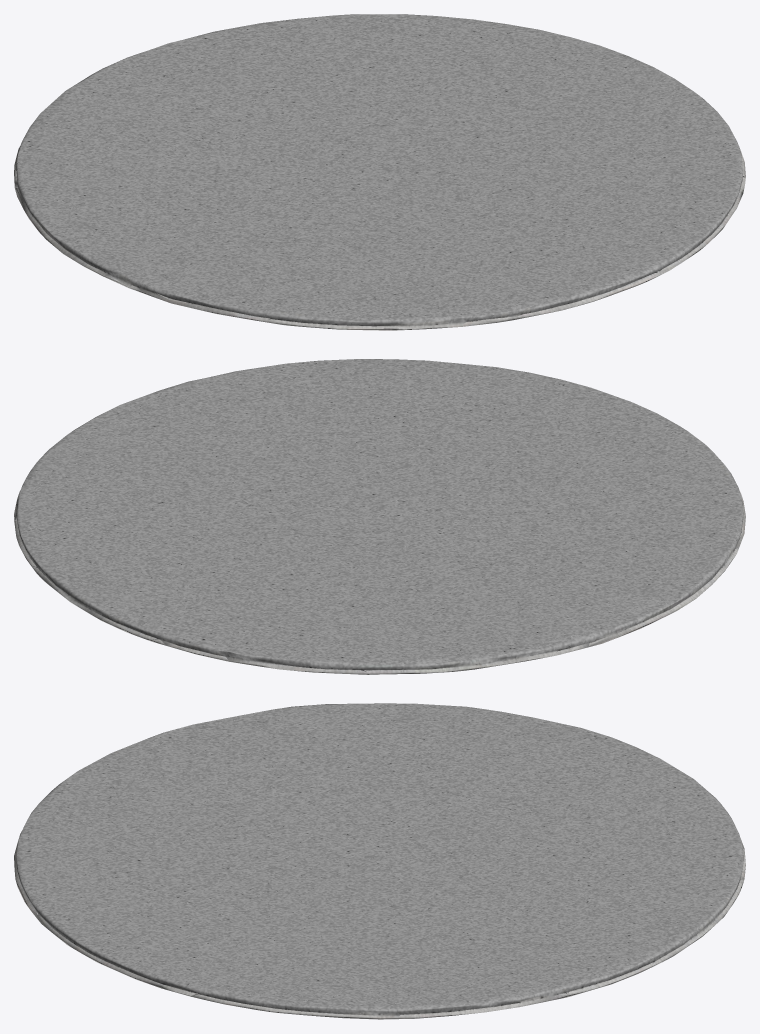
Rendered from stoense_dywan_z_krotkim_wosiem_50426840.glb.
3 views of the same model, one above another, from view 1: azimuth 30°, elevation 25°; view 2: azimuth 150°, elevation 25°; view 3: azimuth 270°, elevation 25° (orthographic).
Visible parts, largest first — view 1: stoense_dywan_z_krotkim_wosiem_50426840; view 2: stoense_dywan_z_krotkim_wosiem_50426840; view 3: stoense_dywan_z_krotkim_wosiem_50426840.
Boxes of the visible parts, x1=… form: stoense_dywan_z_krotkim_wosiem_50426840: x1=14, y1=14, x2=745, y2=330; stoense_dywan_z_krotkim_wosiem_50426840: x1=14, y1=359, x2=745, y2=674; stoense_dywan_z_krotkim_wosiem_50426840: x1=14, y1=703, x2=745, y2=1019.
Size of the model in its own units: 1.3 by 0.0213 by 1.3.
Materials: 1 (1 with a texture image).
